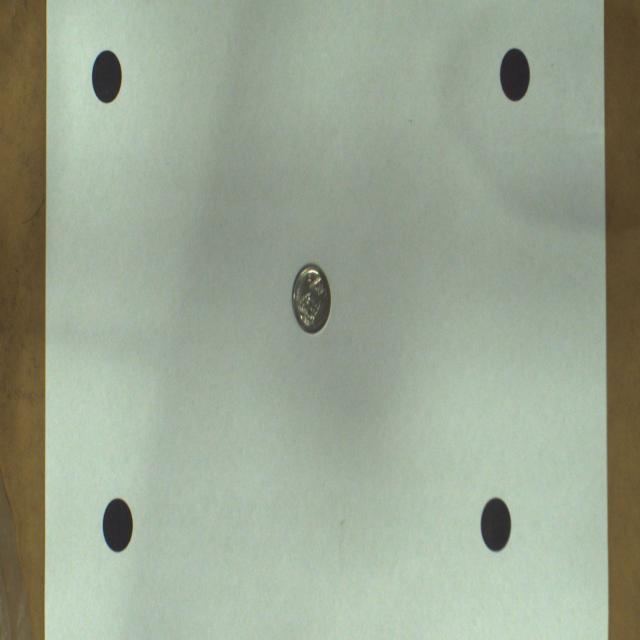head1bath: (292, 264, 331, 333)
space: (102, 498, 132, 551), (481, 498, 511, 551), (500, 49, 530, 100), (92, 51, 121, 102)
